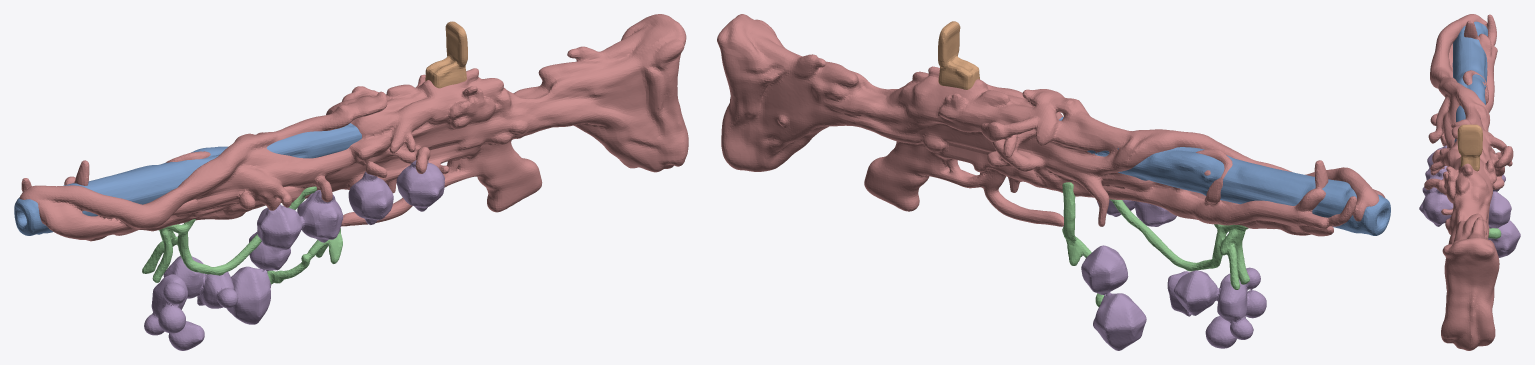
The model's file is druid_sniper_rifle_2.glb.
3 renders of one model, left to right at view 1: azimuth 30°, elevation 25°; view 2: azimuth 150°, elevation 25°; view 3: azimuth 270°, elevation 25°, orthographic. The views are drawn at different scales.
Parts seen in each view (by area): view 1: object 4, Enchanted_Berry_Ammo, Wooden_Barrel, Vine_Trigger, Leaf_Sight; view 2: object 4, Enchanted_Berry_Ammo, Wooden_Barrel, Vine_Trigger, Leaf_Sight; view 3: object 4, Enchanted_Berry_Ammo, Wooden_Barrel, Leaf_Sight, Vine_Trigger.
Boxes of the visible parts, left/top/right/bottom form: object 4: left=19, top=14, right=688, bottom=241; Enchanted_Berry_Ammo: left=144, top=160, right=444, bottom=350; Wooden_Barrel: left=14, top=123, right=361, bottom=235; Vine_Trigger: left=142, top=186, right=342, bottom=284; Leaf_Sight: left=425, top=21, right=467, bottom=88; object 4: left=717, top=14, right=1385, bottom=236; Enchanted_Berry_Ammo: left=1081, top=200, right=1266, bottom=350; Wooden_Barrel: left=1059, top=117, right=1390, bottom=235; Vine_Trigger: left=1062, top=182, right=1249, bottom=306; Leaf_Sight: left=938, top=21, right=979, bottom=89; object 4: left=1424, top=14, right=1513, bottom=350; Enchanted_Berry_Ammo: left=1419, top=145, right=1520, bottom=257; Wooden_Barrel: left=1452, top=21, right=1487, bottom=142; Leaf_Sight: left=1457, top=124, right=1482, bottom=171; Vine_Trigger: left=1488, top=228, right=1501, bottom=238.
Size of the model in its own units: 1.88 by 0.7231 by 0.3247.
